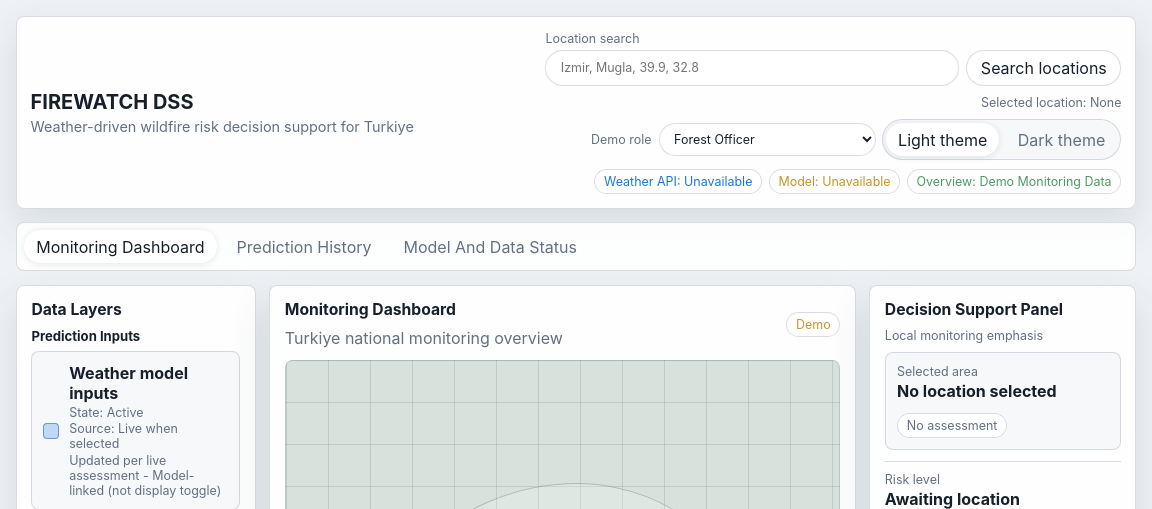
Scenario: FIREWATCH dashboard shell › adjusts demo role emphasis without hiding assessment facts or implying access control
The width and height of the screenshot is (1152, 509).
Type "Izmir" into the search field labelled "Location search" at x=752, y=68, box left=545, top=50, right=959, bottom=86
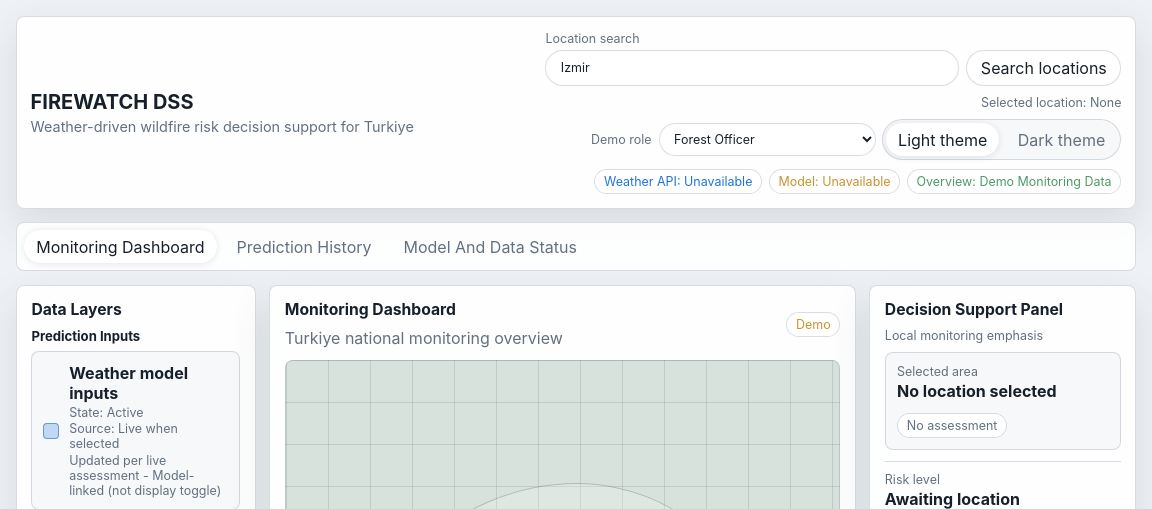
Click the button "Search locations" at x=1044, y=68, box left=966, top=50, right=1121, bottom=86
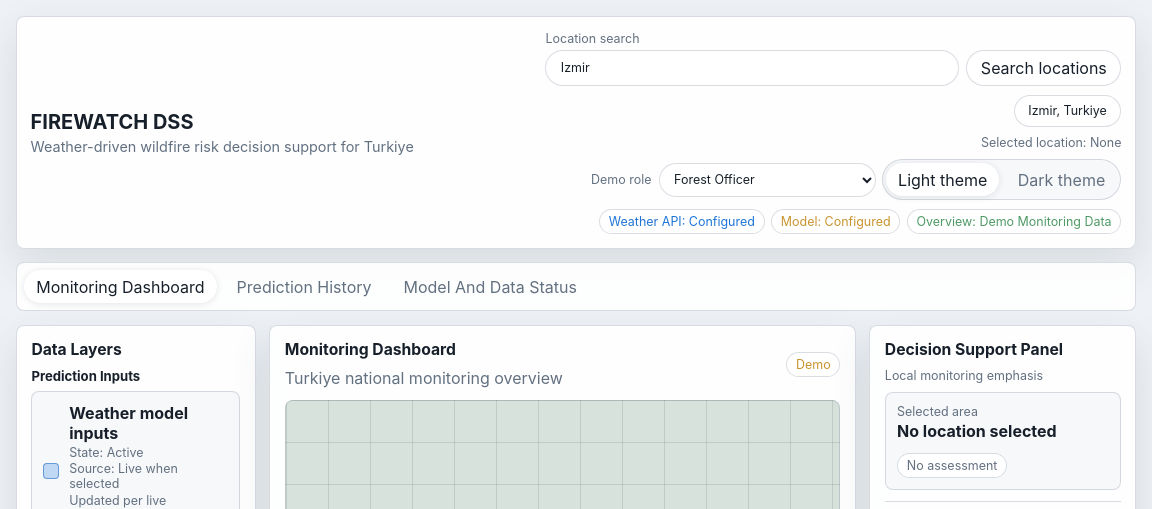
Click the button "Izmir, Turkiye" at x=1068, y=111, box left=1014, top=95, right=1121, bottom=127
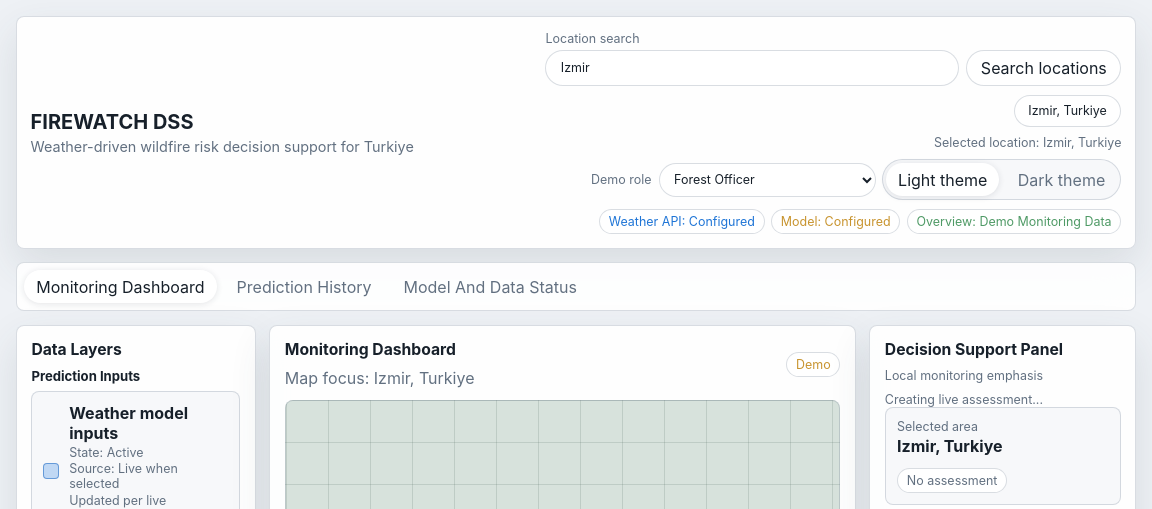
Expected: the text "Local monitoring emphasis" is shown, left=885, top=368, right=1043, bottom=383
Select "Disaster Management Official" in the dropdown labelled "Demo role" at x=767, y=180, box left=659, top=163, right=876, bottom=196
(page scrolled)
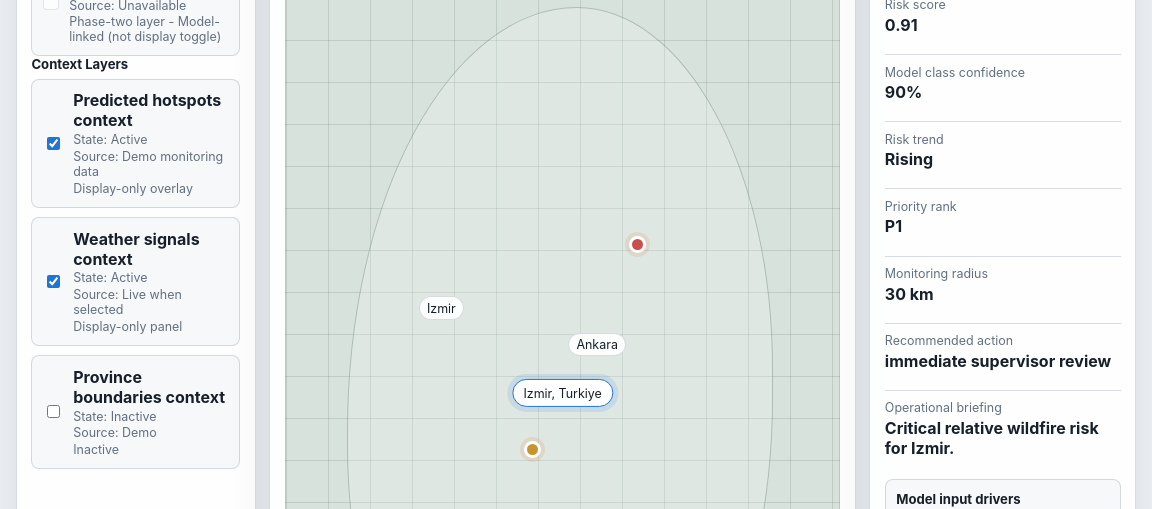
Expected: the text "0.91" is shown, left=885, top=15, right=918, bottom=35
Expected: the text "immediate supervisor review" is shown, left=885, top=351, right=1121, bottom=371
